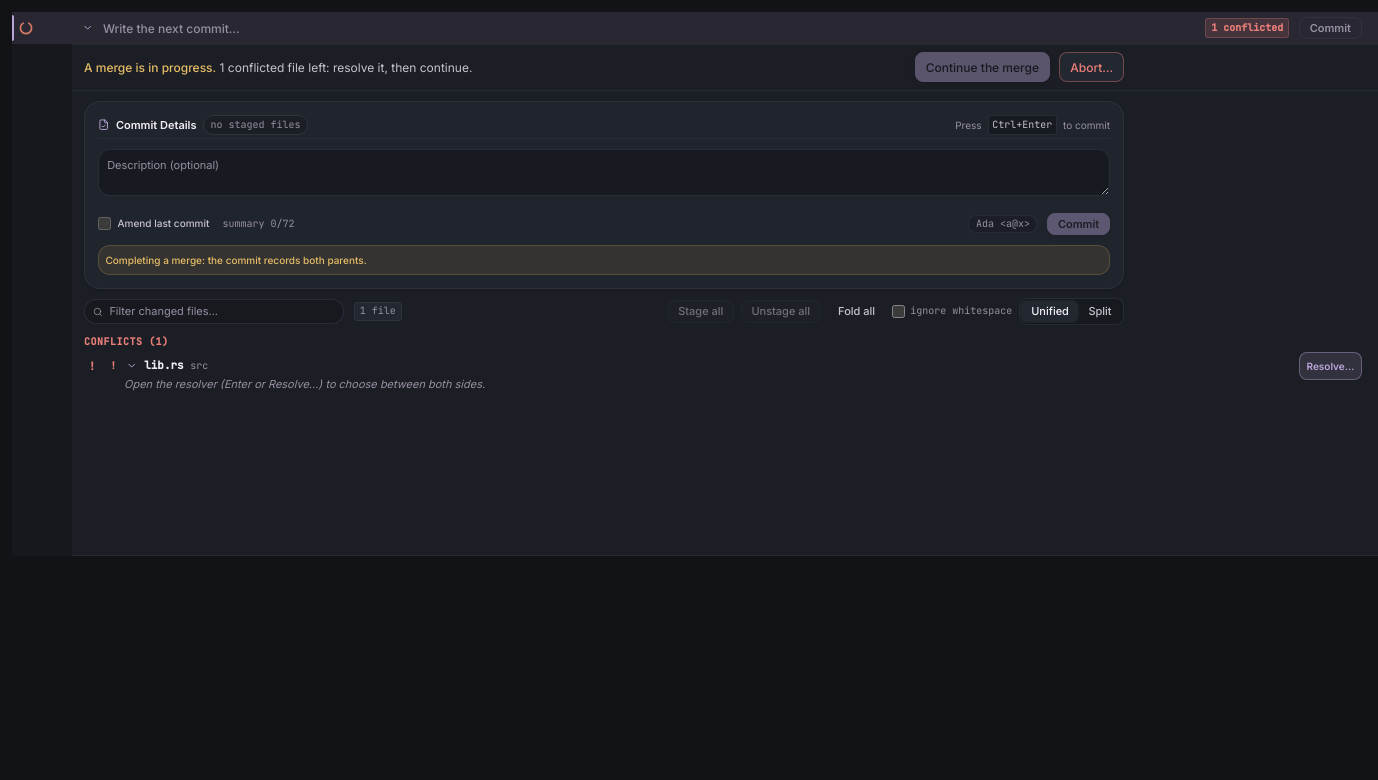
conflict resolution › offers no skip during a merge, which has no steps
The image size is (1378, 780).
Step 1. Click the button "Resolve…" → [1330, 366], box left=1299, top=352, right=1362, bottom=380
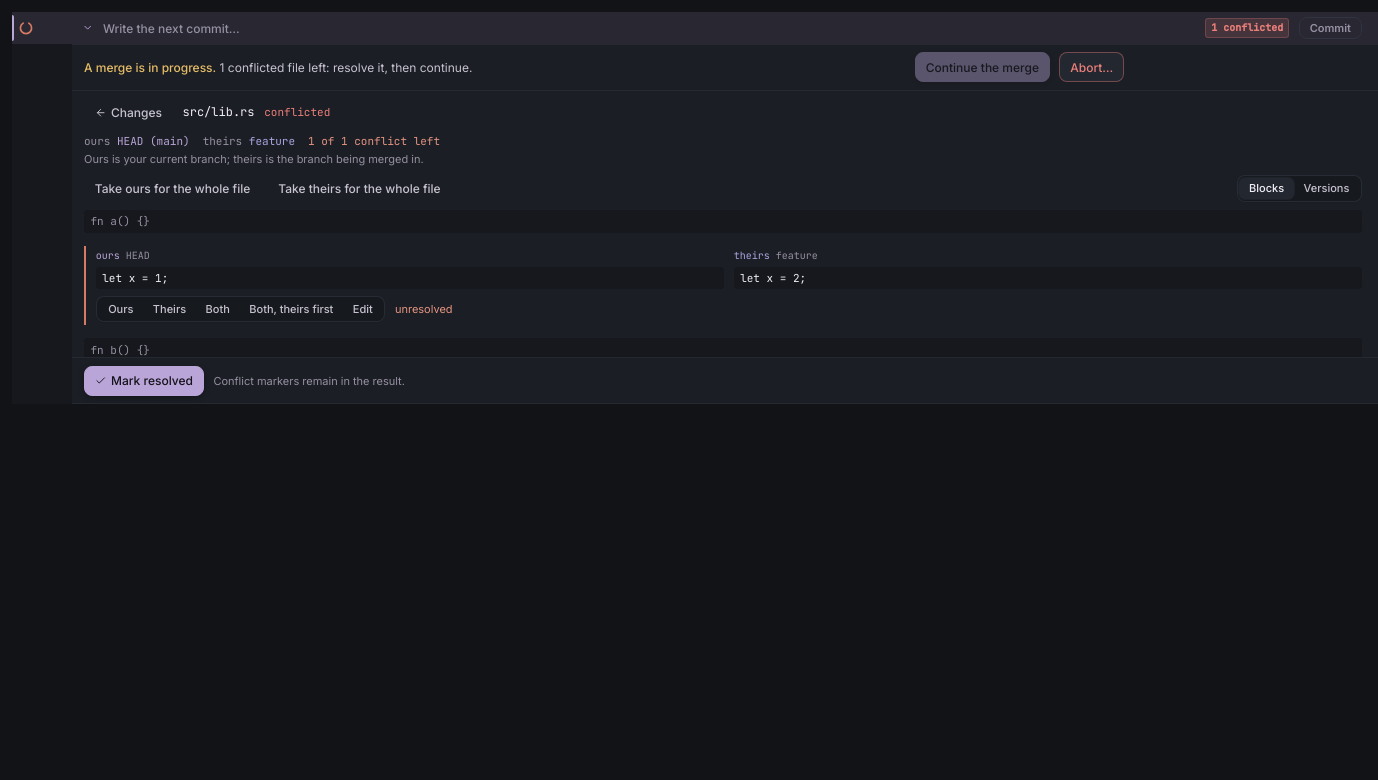
Expected: the text "HEAD (main)" is shown, left=117, top=134, right=190, bottom=148
